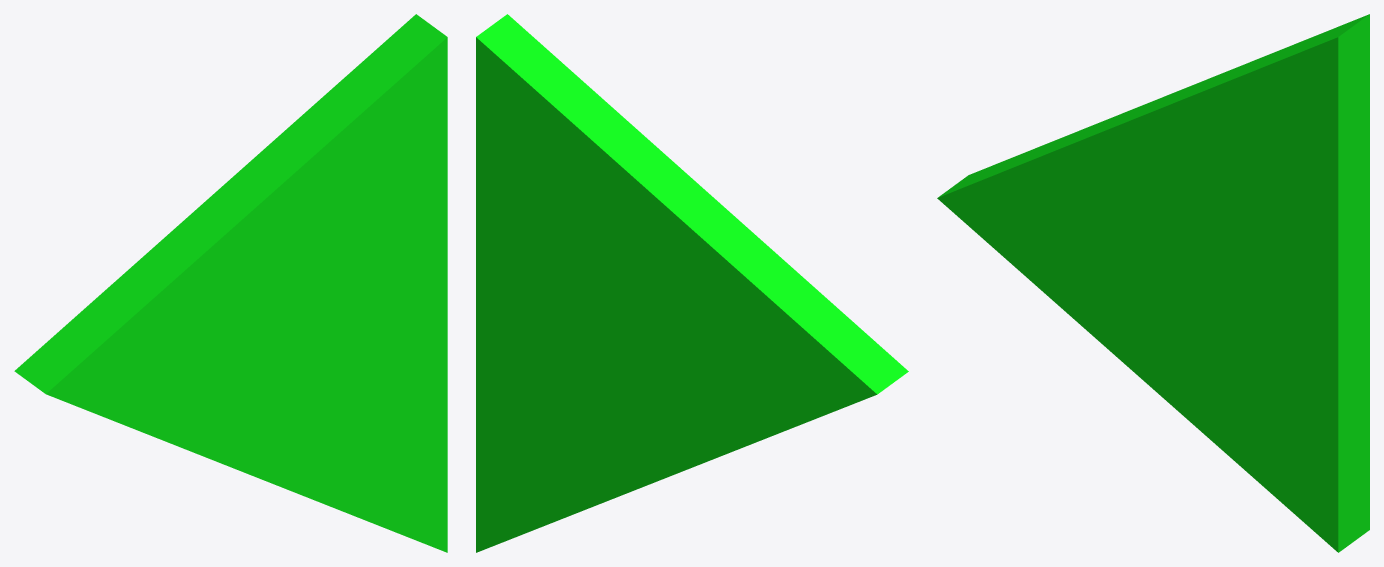
Rendered from PlayButton.fbx.
3 renders of one model, left to right at view 1: azimuth 30°, elevation 25°; view 2: azimuth 150°, elevation 25°; view 3: azimuth 330°, elevation 25°, orthographic.
Visible parts, largest first — view 1: PlayButton; view 2: PlayButton; view 3: PlayButton.
Part boxes in pixels (x1,y1,x2,y2): PlayButton: (14,14,447,552); PlayButton: (476,14,908,552); PlayButton: (937,14,1369,552).
Size of the model in its own units: 1.63 by 2 by 0.2232.
